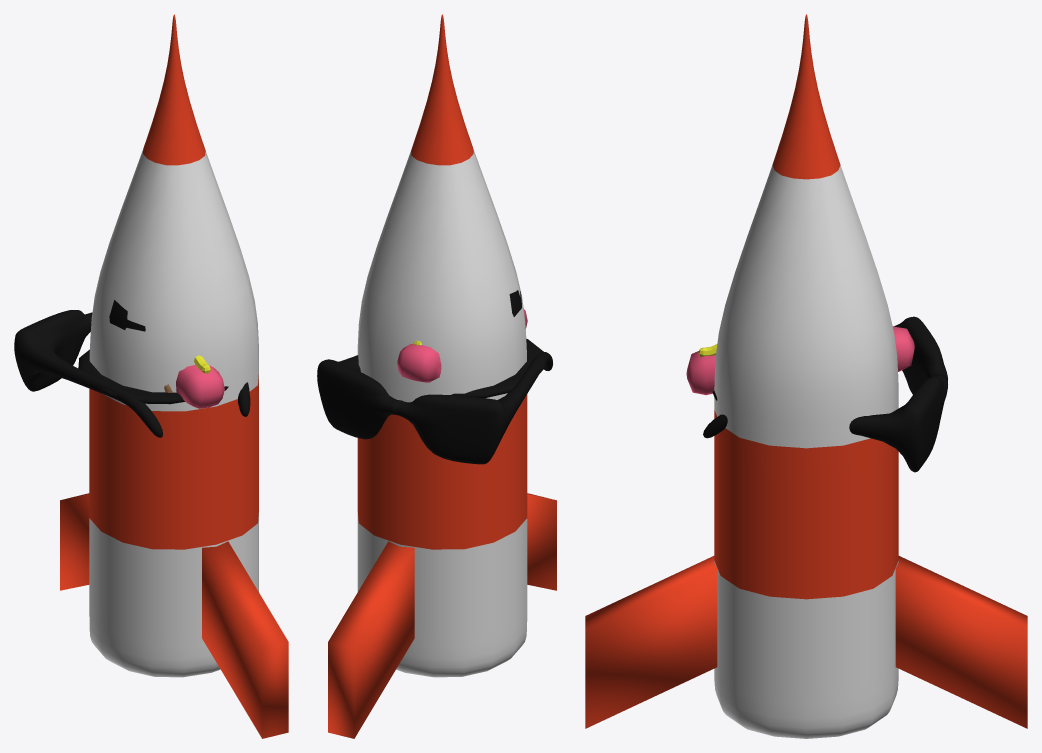
File: Flappy.fbx
The picture shows the model from 3 angles, left to right: view 1: azimuth 30°, elevation 25°; view 2: azimuth 150°, elevation 25°; view 3: azimuth 270°, elevation 25°; orthographic projection. The views are drawn at different scales.
Parts seen in each view (by area): view 1: Rocket, Wings, Shades, Hotdog, TopHat; view 2: Rocket, Wings, Shades, Hotdog, TopHat; view 3: Rocket, Wings, Shades, Hotdog.
Part boxes in pixels (x1,y1,x2,y2): Rocket: (89, 14, 258, 677); Wings: (60, 493, 288, 738); Shades: (14, 310, 250, 437); Hotdog: (164, 365, 224, 408); TopHat: (78, 300, 228, 404); Rocket: (357, 14, 527, 677); Wings: (328, 493, 556, 738); Shades: (317, 352, 552, 464); Hotdog: (397, 309, 527, 382); TopHat: (450, 290, 545, 398); Rocket: (714, 14, 898, 738); Wings: (585, 556, 1027, 728); Shades: (703, 316, 947, 472); Hotdog: (686, 326, 914, 395).
Bounding box in the file's own units: 440 × 233 × 777.
